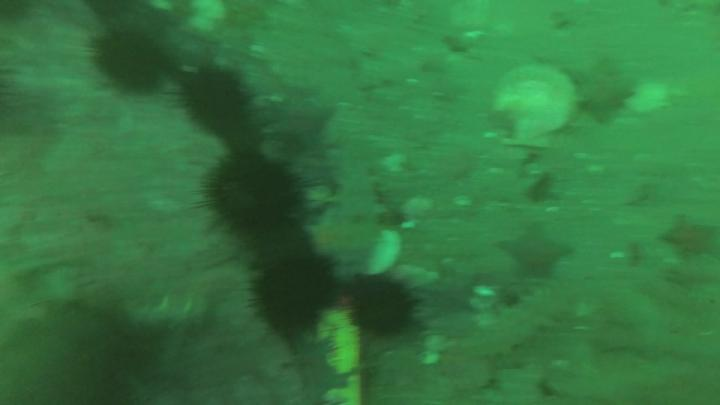echinus: (259, 258, 336, 338), (209, 157, 290, 227), (179, 73, 246, 136), (96, 33, 162, 94), (356, 282, 410, 335)
holothurian: (470, 283, 581, 354), (315, 149, 382, 262), (123, 296, 206, 338)
scallop: (496, 64, 576, 149)
starfish: (493, 226, 575, 279), (564, 63, 631, 121), (267, 99, 334, 154), (416, 271, 479, 319), (660, 214, 718, 263)
